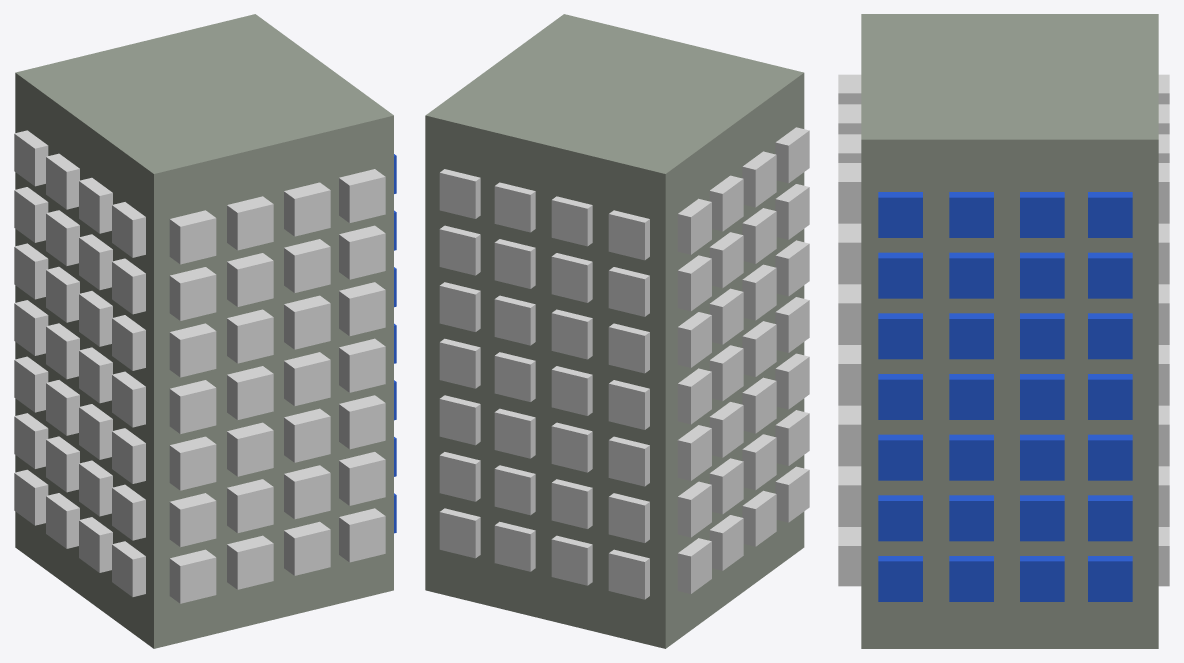
The model's file is Bill3003.fbx.
3 views of the same model, side by side, from view 1: azimuth 30°, elevation 25°; view 2: azimuth 150°, elevation 25°; view 3: azimuth 270°, elevation 25° (orthographic). The views are drawn at different scales.
Parts seen in each view (by area): view 1: Cube, Cube.002, Cube.003, Cube.004; view 2: Cube, Cube.001, Cube.003; view 3: Cube, Cube.004, Cube.002, Cube.001.
Boxes of the visible parts, bbox=[...] form: Cube: bbox=[15, 14, 393, 648]; Cube.002: bbox=[169, 169, 385, 603]; Cube.003: bbox=[14, 130, 145, 596]; Cube.004: bbox=[394, 154, 396, 533]; Cube: bbox=[425, 14, 804, 648]; Cube.001: bbox=[439, 169, 649, 599]; Cube.003: bbox=[677, 127, 809, 593]; Cube: bbox=[861, 14, 1158, 648]; Cube.004: bbox=[878, 192, 1132, 601]; Cube.002: bbox=[838, 74, 861, 586]; Cube.001: bbox=[1158, 74, 1169, 586].
Bounding box in the file's own units: 220 × 378 × 223.
